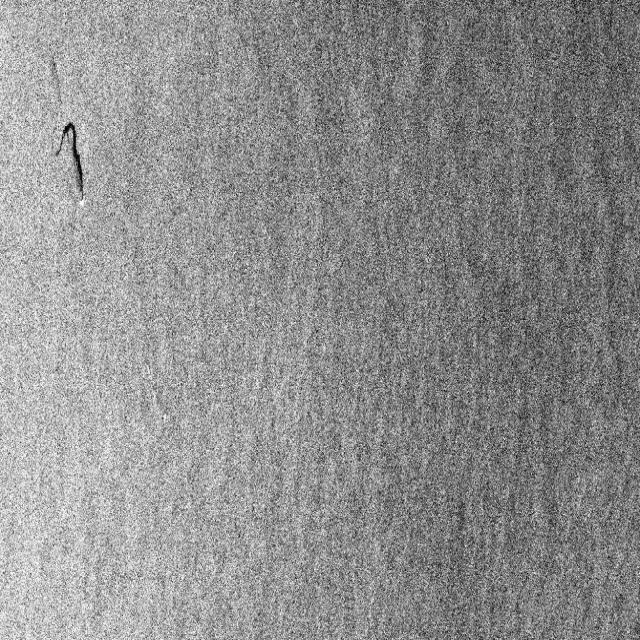oil-spill: (48, 116, 88, 195)
ship: (72, 196, 89, 216)
